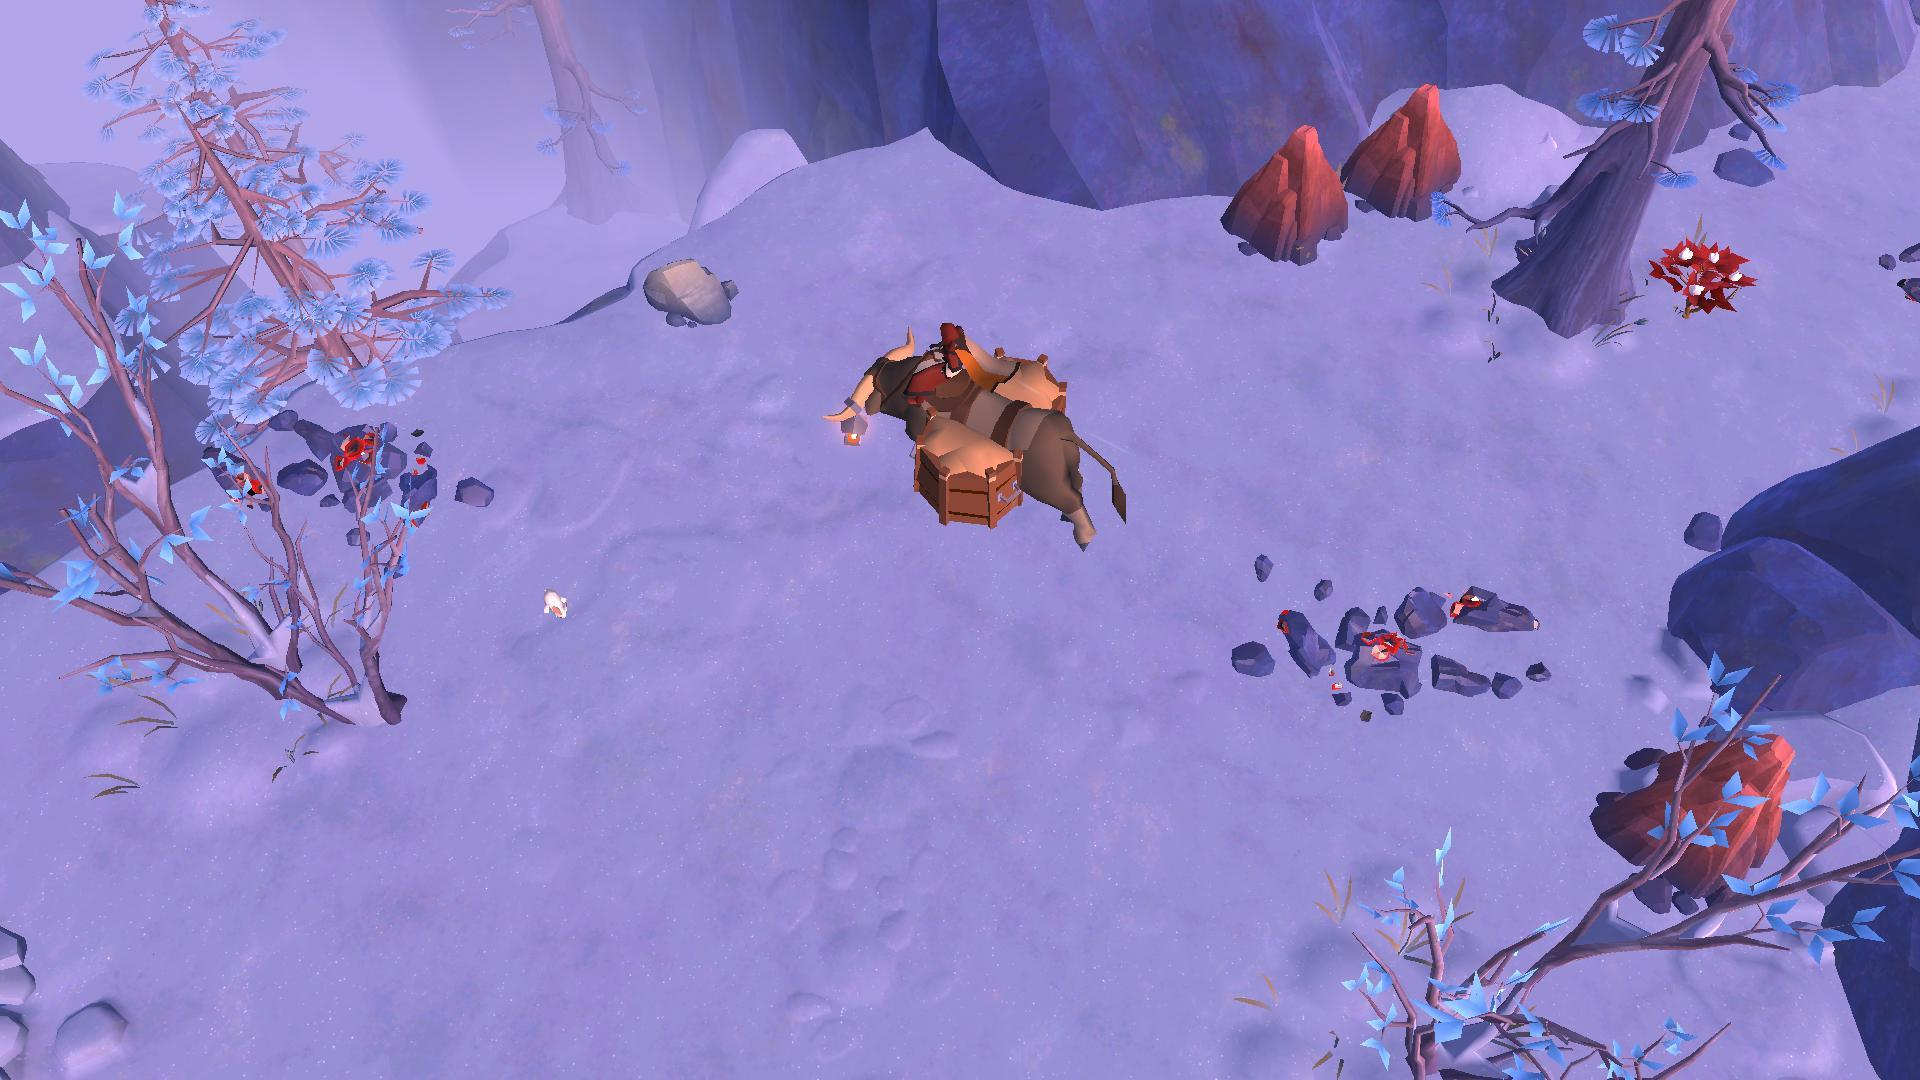fiber_t5: (1644, 232, 1756, 314)
rock_t5: (1598, 728, 1789, 895), (1218, 120, 1348, 272), (1346, 82, 1469, 216)
